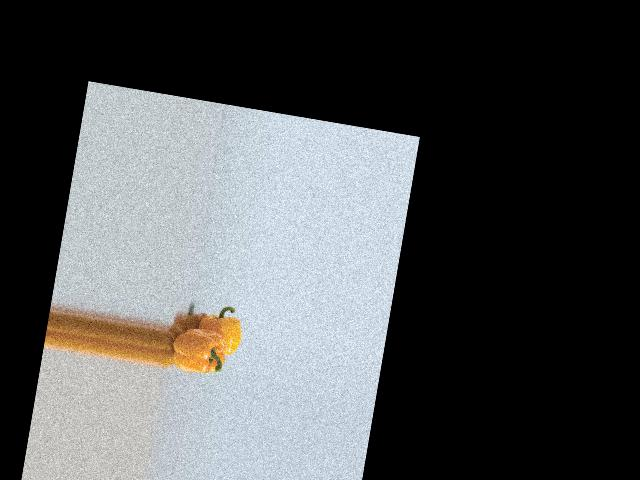bell_pepper: (186, 301, 246, 358)
